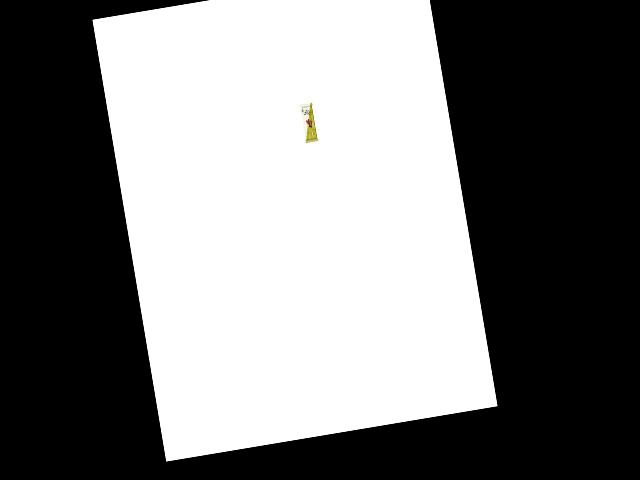chocolate: (296, 99, 322, 145)
